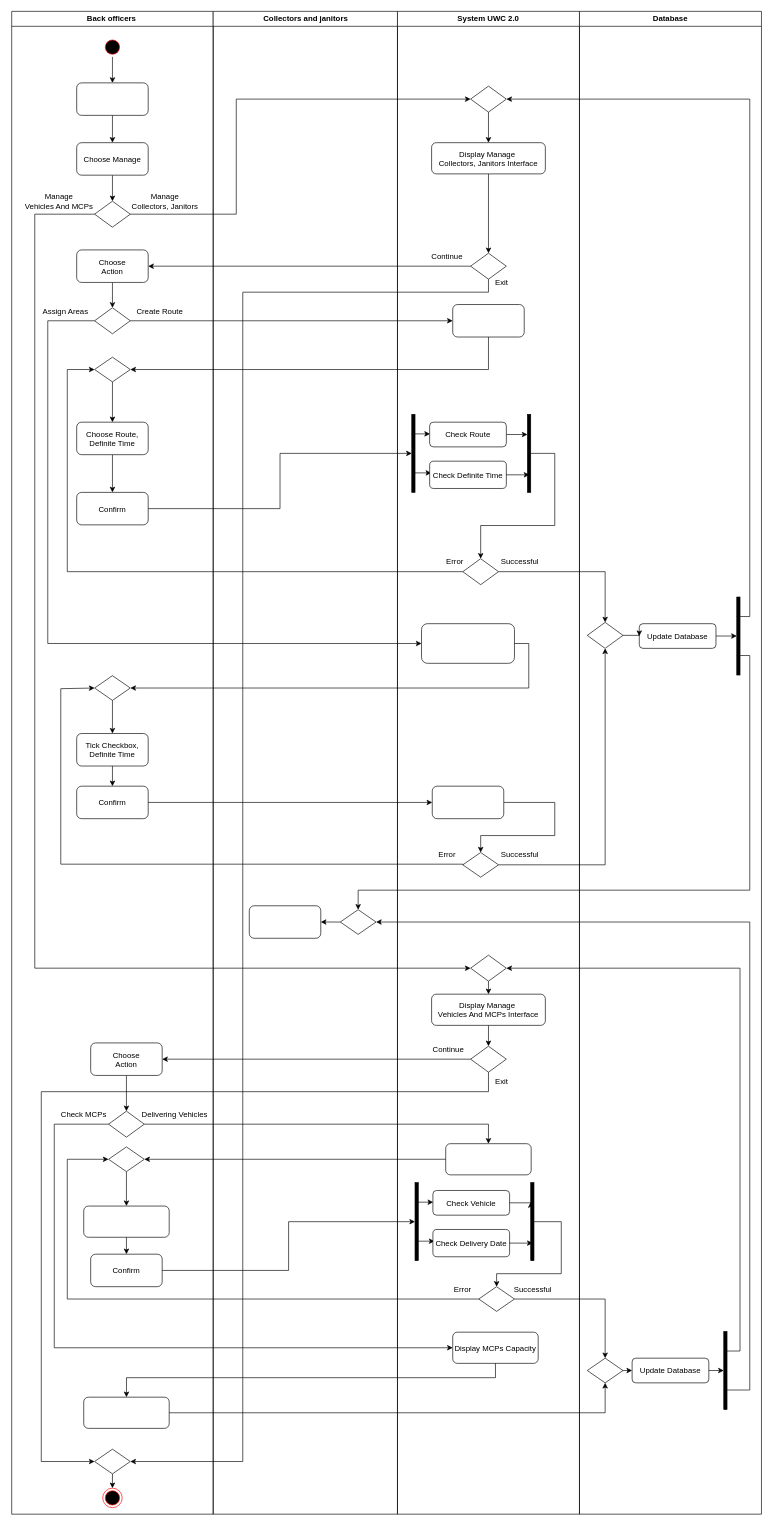
Some shapes in this 773 by 1526 pixel diagram are drawn without their labels. The shapes that lost their labels are listed below. From the top down, each one's centre as x and y in pixels, then its label:
At pixel 112 98: "View Manage Page".
At pixel 488 320: "Display Route Location Map".
At pixel 467 643: "Display Areas Information List".
At pixel 468 802: "Verify Information".
At pixel 285 921: "Receive Task Notify".
At pixel 488 1159: "Display Vehicles List".
At pixel 126 1221: "Choose Vehicle, Delivery Date".
At pixel 126 1412: "Send Notify MCPs Capacity".
